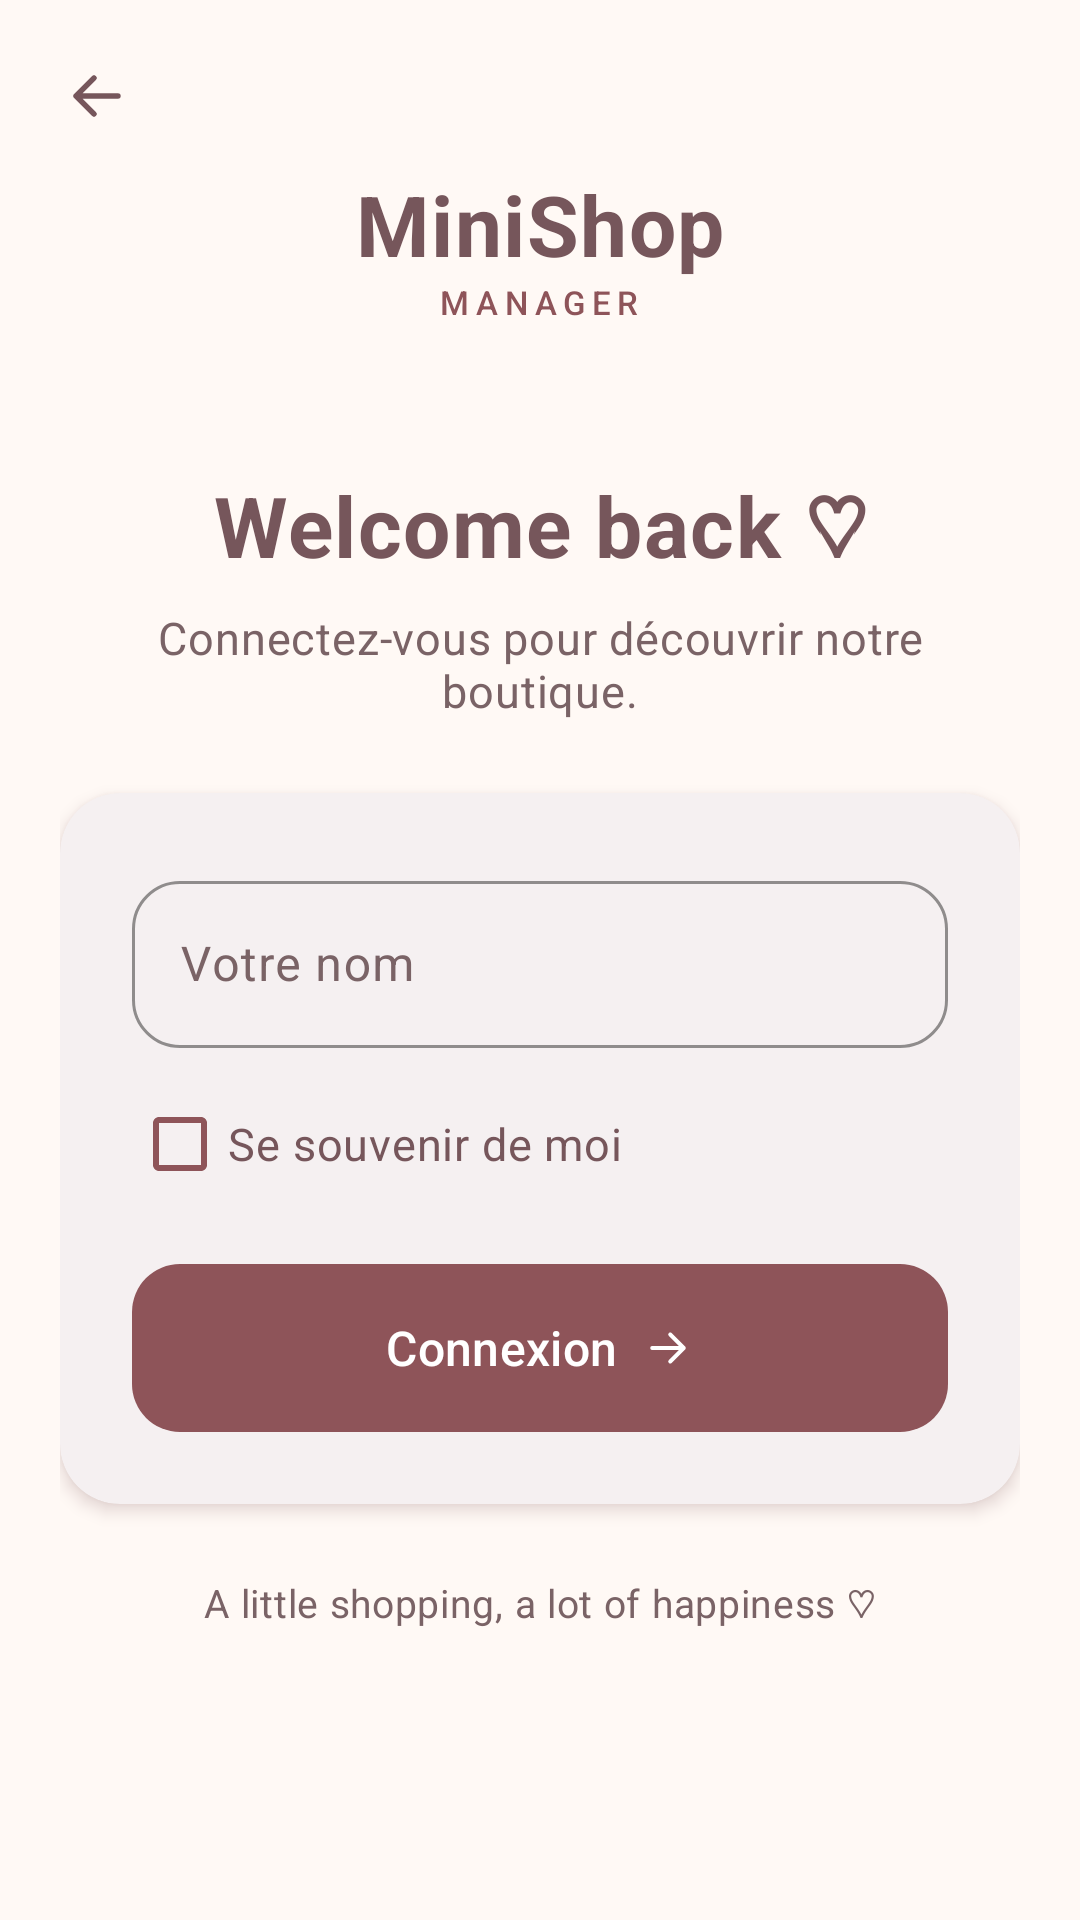

Locate icon controls on the screen. Image size 1080px×1920px, boxes as [x1,y1,x2,y2].
Retour: [73,75,121,117]
